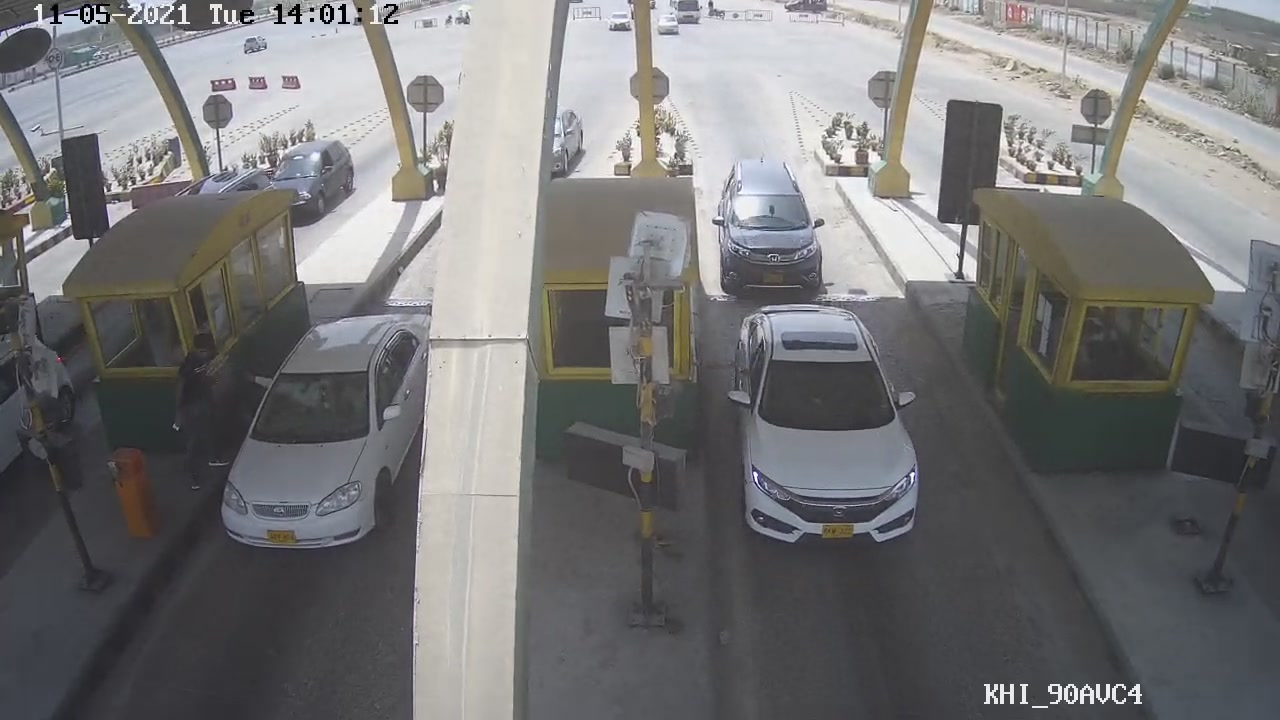F1: (726, 305, 926, 550), (711, 152, 840, 298)
